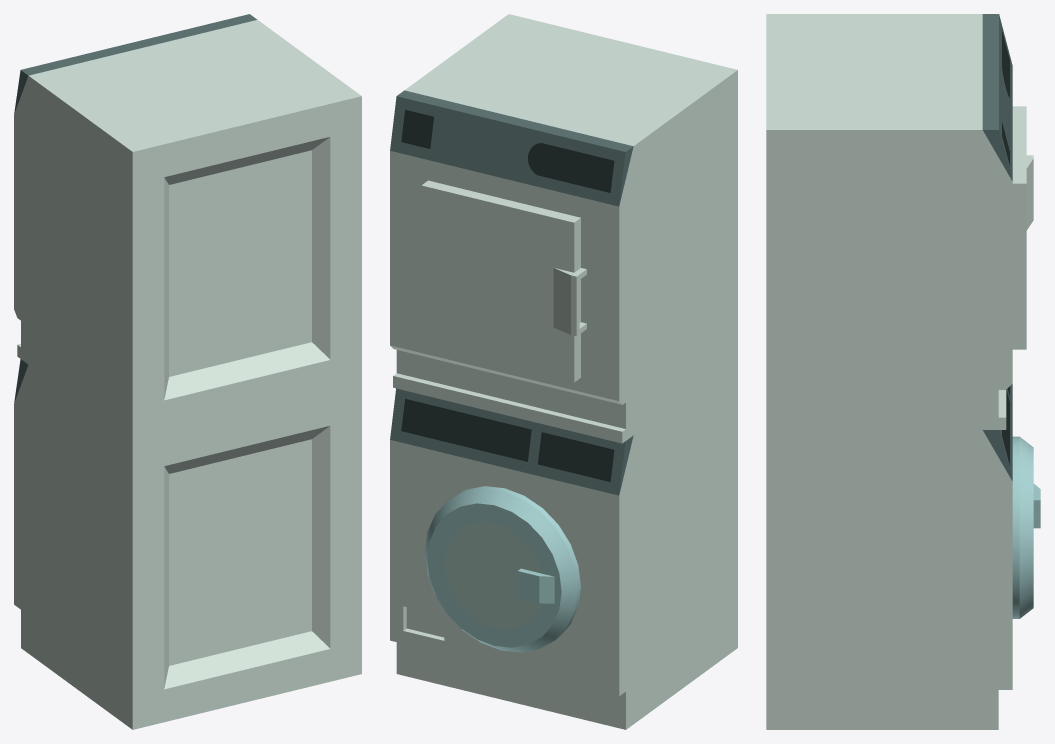
File: washerDryerStacked.glb
The picture shows the model from 3 angles, left to right: view 1: azimuth 30°, elevation 25°; view 2: azimuth 150°, elevation 25°; view 3: azimuth 270°, elevation 25°; orthographic projection. The views are drawn at different scales.
Bounding box in the file's own units: 3.9 × 9.4 × 3.9.
